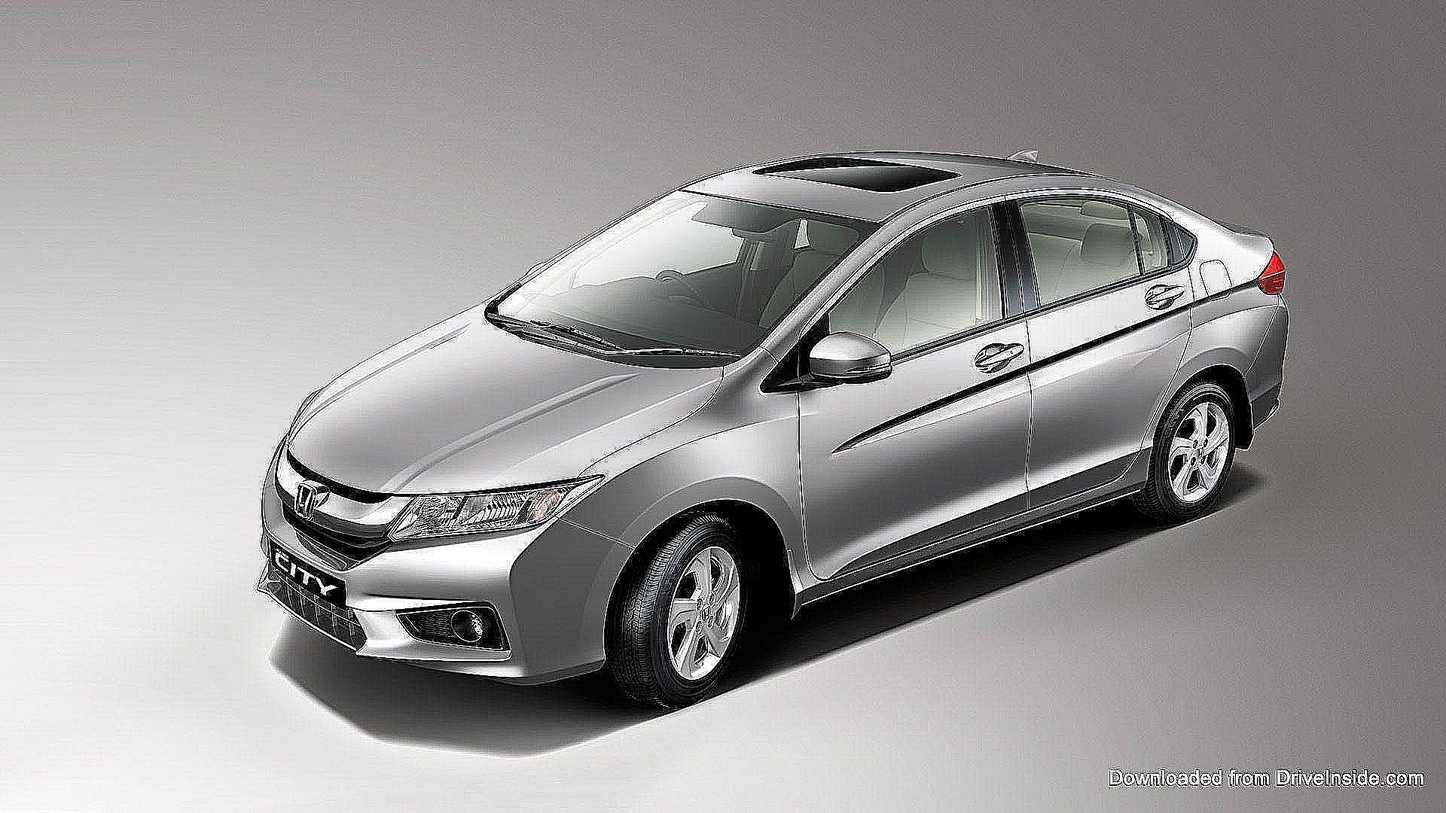Car hood: (288, 292, 722, 498)
Fender - -F-L-: (569, 344, 817, 616)
Fender - -R-L-: (1141, 195, 1264, 467)
Front bumper: (235, 483, 628, 689)
Headlight - -L-: (372, 474, 601, 552)
Passenger-s door - -F-L-: (770, 149, 1049, 620)
Passenger-s door - -R-L-: (990, 146, 1204, 560)
Rear bumper: (1232, 295, 1298, 435)
Rear light - -L-: (1254, 251, 1294, 309)
Side bumper - -L-: (780, 451, 1145, 664)
Side mirror - -L-: (796, 328, 898, 398)
